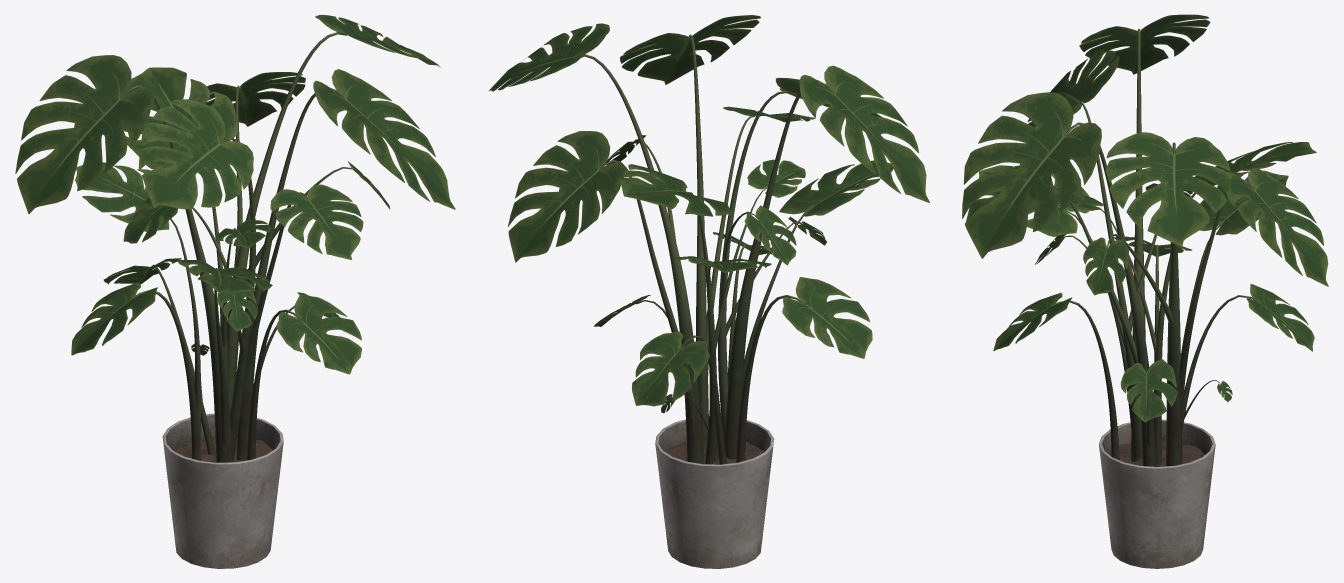
The picture shows the model from 3 angles, left to right: view 1: azimuth 30°, elevation 25°; view 2: azimuth 150°, elevation 25°; view 3: azimuth 270°, elevation 25°; orthographic projection. The views are drawn at different scales.
Parts seen in each view (by area): view 1: Monstera_Plant_GEO; view 2: Monstera_Plant_GEO; view 3: Monstera_Plant_GEO.
Boxes of the visible parts, x1,y1,x2,y2 form: Monstera_Plant_GEO: (15, 15, 455, 568); Monstera_Plant_GEO: (489, 15, 929, 568); Monstera_Plant_GEO: (962, 14, 1328, 568).
Size of the model in its own units: 1.46 by 1.66 by 1.13.
Materials: 2 (2 with a texture image).
